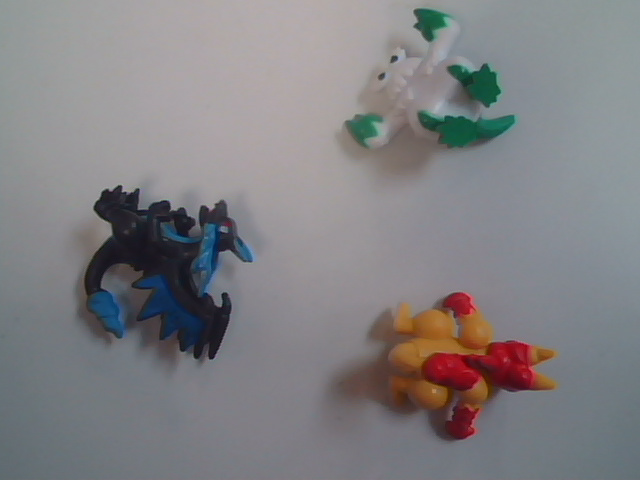abomasnow: (333, 16, 546, 181)
charizard: (57, 169, 268, 379)
magmar: (363, 273, 576, 459)
